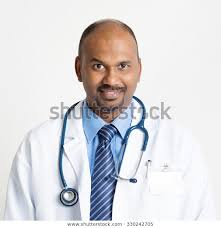Indian_Male: (81, 18, 142, 116)
